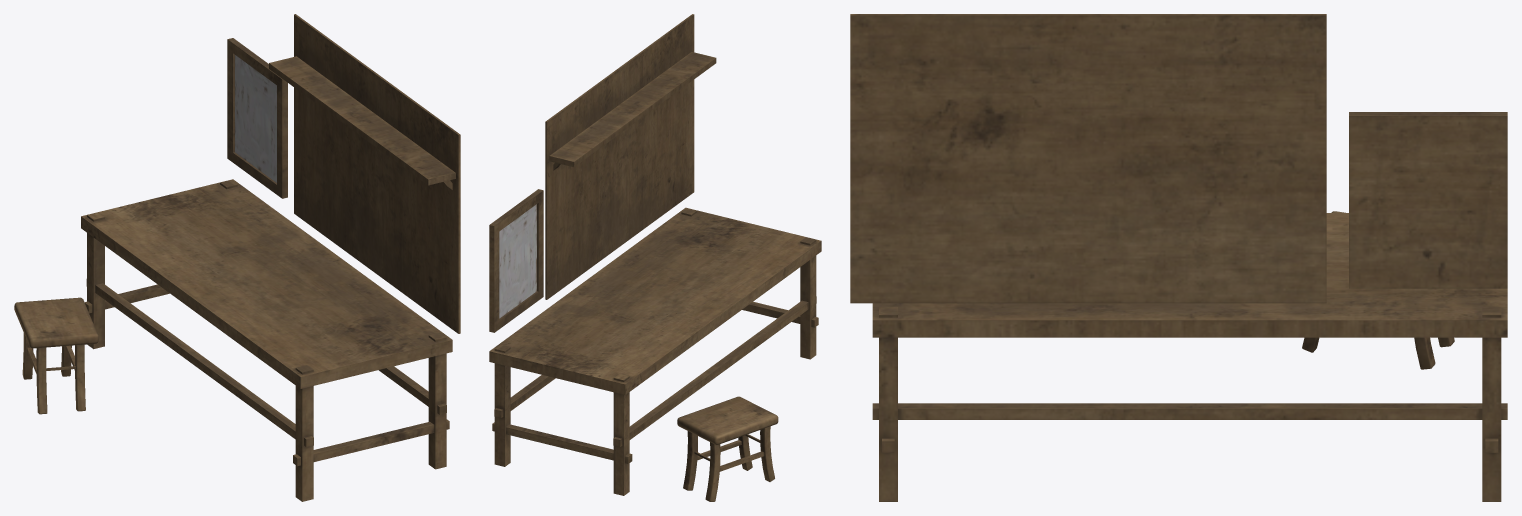
Rendered from workbench.glb.
3 views of the same model, side by side, from view 1: azimuth 30°, elevation 25°; view 2: azimuth 150°, elevation 25°; view 3: azimuth 270°, elevation 25° (orthographic). The views are drawn at different scales.
Visible parts, largest first — view 1: defaultMaterial; view 2: defaultMaterial; view 3: defaultMaterial.
Part boxes in pixels (left/top/right/bottom): defaultMaterial: left=14, top=14, right=460, bottom=501; defaultMaterial: left=489, top=14, right=821, bottom=501; defaultMaterial: left=850, top=14, right=1507, bottom=501.
Bounding box in the file's own units: 0.8527 × 1.05 × 1.28.
Materials: 1 (1 with a texture image).
